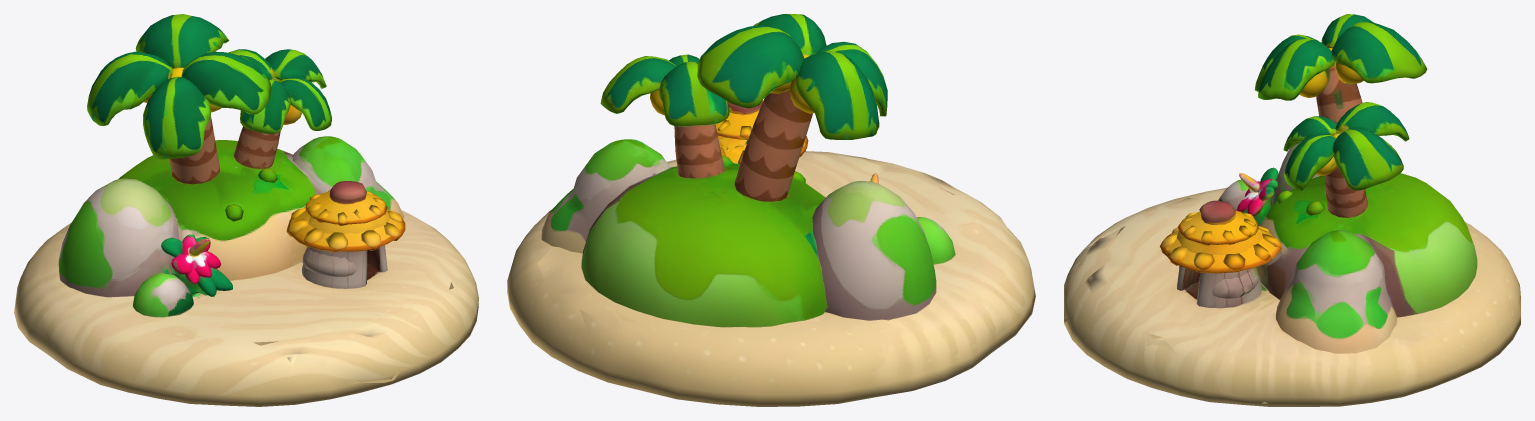
File: map_isla.glb
3 views of the same model, side by side, from view 1: azimuth 30°, elevation 25°; view 2: azimuth 150°, elevation 25°; view 3: azimuth 270°, elevation 25° (orthographic). The views are drawn at different scales.
Size of the model in its own units: 1 by 0.6523 by 1.
1 material, 1 textured.
